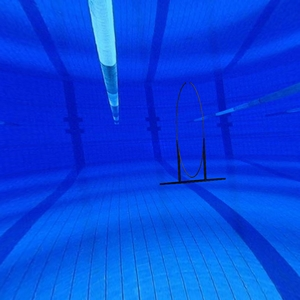circle: (158, 80, 228, 188)
